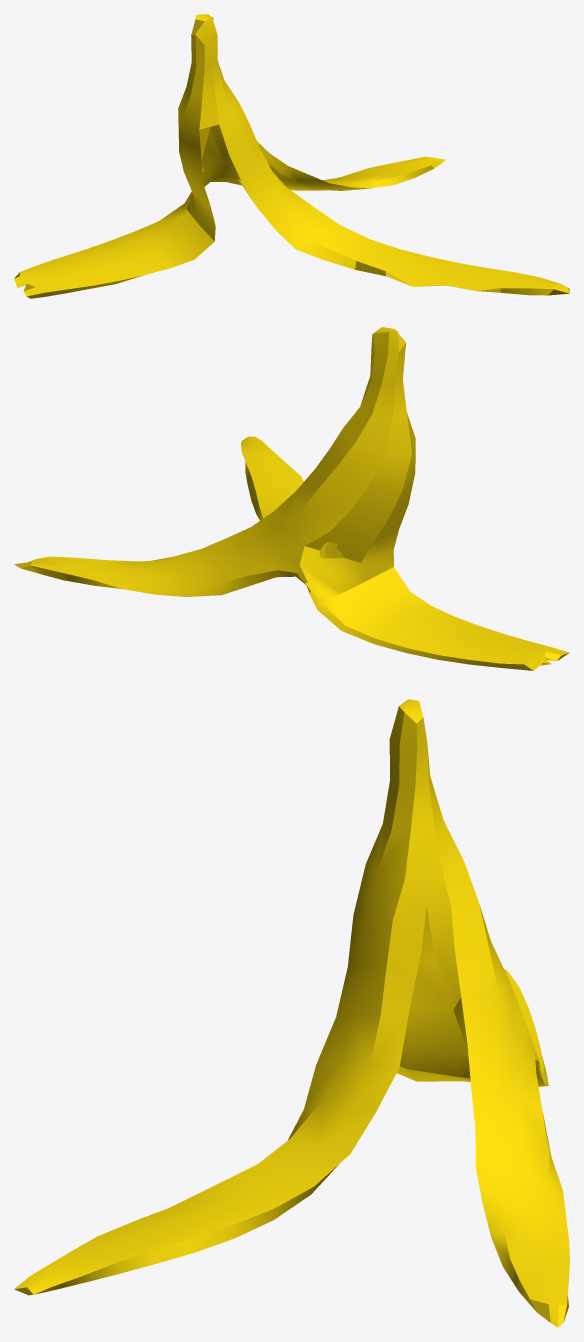
Rendered from Sampah8.fbx.
3 views of the same model, one above another, from view 1: azimuth 30°, elevation 25°; view 2: azimuth 150°, elevation 25°; view 3: azimuth 270°, elevation 25° (orthographic). The views are drawn at different scales.
Parts seen in each view (by area): view 1: Banana_Peel.002; view 2: Banana_Peel.002; view 3: Banana_Peel.002.
Part boxes in pixels (left/top/right/bottom): Banana_Peel.002: left=14, top=14, right=569, bottom=298; Banana_Peel.002: left=14, top=327, right=569, bottom=670; Banana_Peel.002: left=14, top=699, right=569, bottom=1327.
Size of the model in its own units: 63.62 by 33.35 by 41.64.
